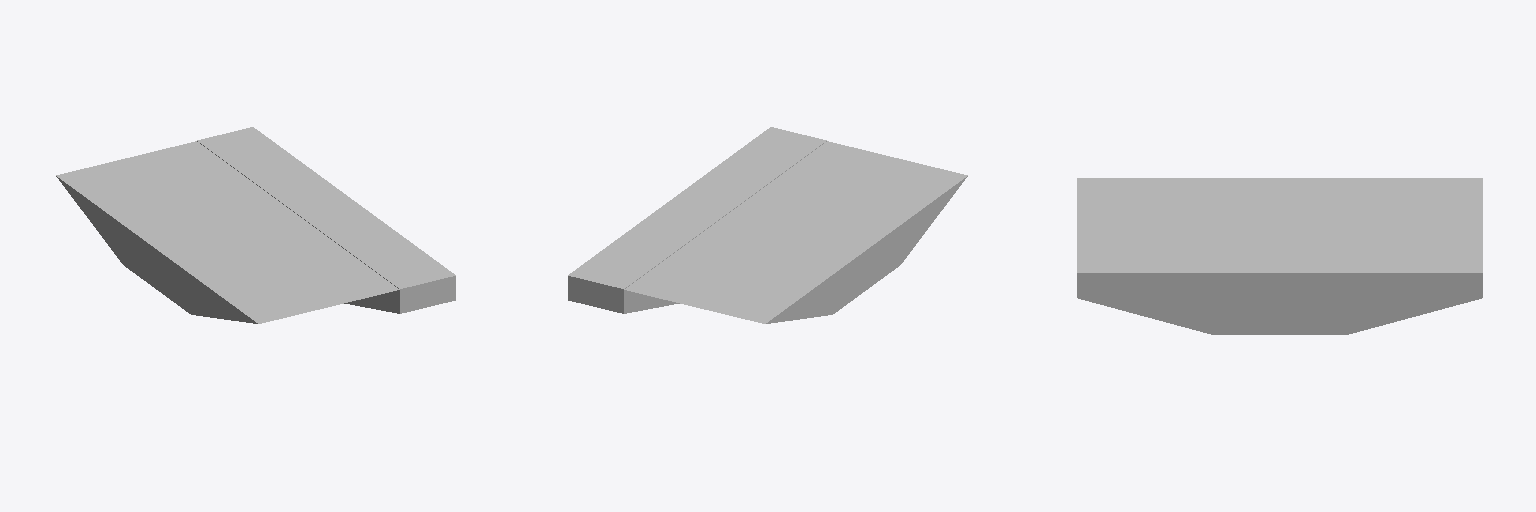
The model's file is ramp1.obj.
3 renders of one model, left to right at view 1: azimuth 30°, elevation 25°; view 2: azimuth 150°, elevation 25°; view 3: azimuth 270°, elevation 25°, orthographic.
Visible parts, largest first — view 1: Ramp1; view 2: Ramp1; view 3: Ramp1.
Boxes of the visible parts, x1,y1,x2,y2 form: Ramp1: [56, 127, 455, 323]; Ramp1: [568, 127, 967, 323]; Ramp1: [1077, 178, 1482, 334].
Bounding box in the file's own units: 3.95 × 1.17 × 7.04.